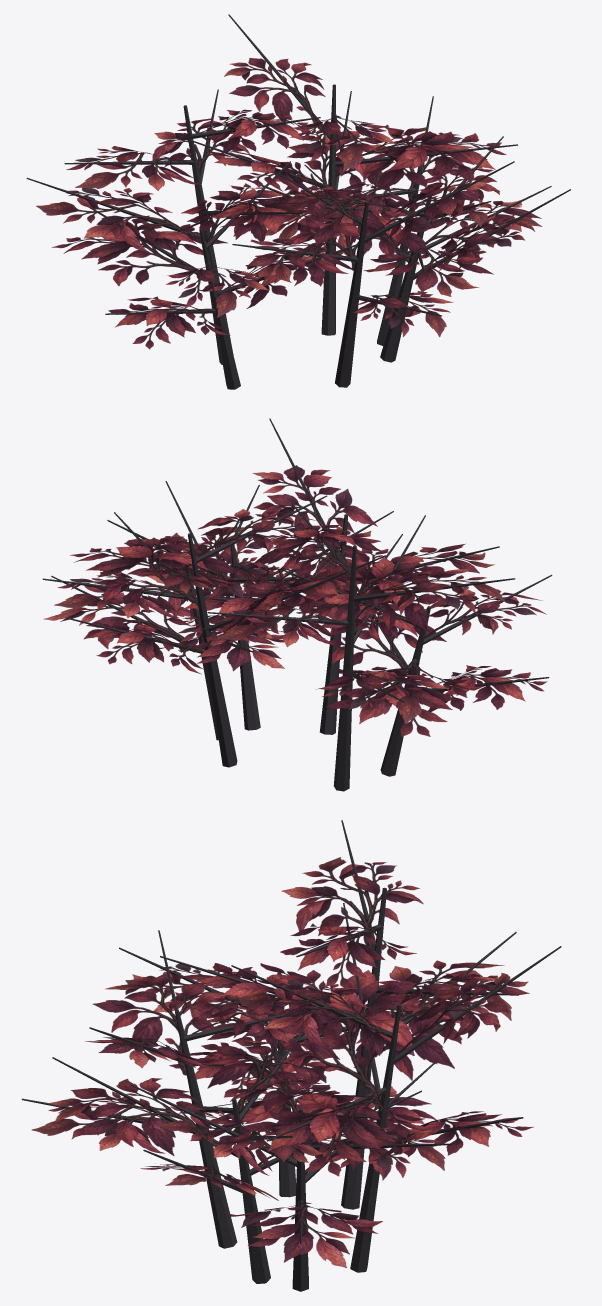
The model's file is ash-copse.glb.
The picture shows the model from 3 angles, top to bottom: view 1: azimuth 30°, elevation 25°; view 2: azimuth 150°, elevation 25°; view 3: azimuth 270°, elevation 25°; orthographic projection. The views are drawn at different scales.
Visible parts, largest first — view 1: ash-copse; view 2: ash-copse; view 3: ash-copse.
Part boxes in pixels (x1,y1,x2,y2): ash-copse: (26,14,570,389); ash-copse: (42,418,552,791); ash-copse: (21,820,561,1291).
Size of the model in its own units: 2.46 by 1.29 by 2.12.
Materials: 2 (1 with a texture image).
